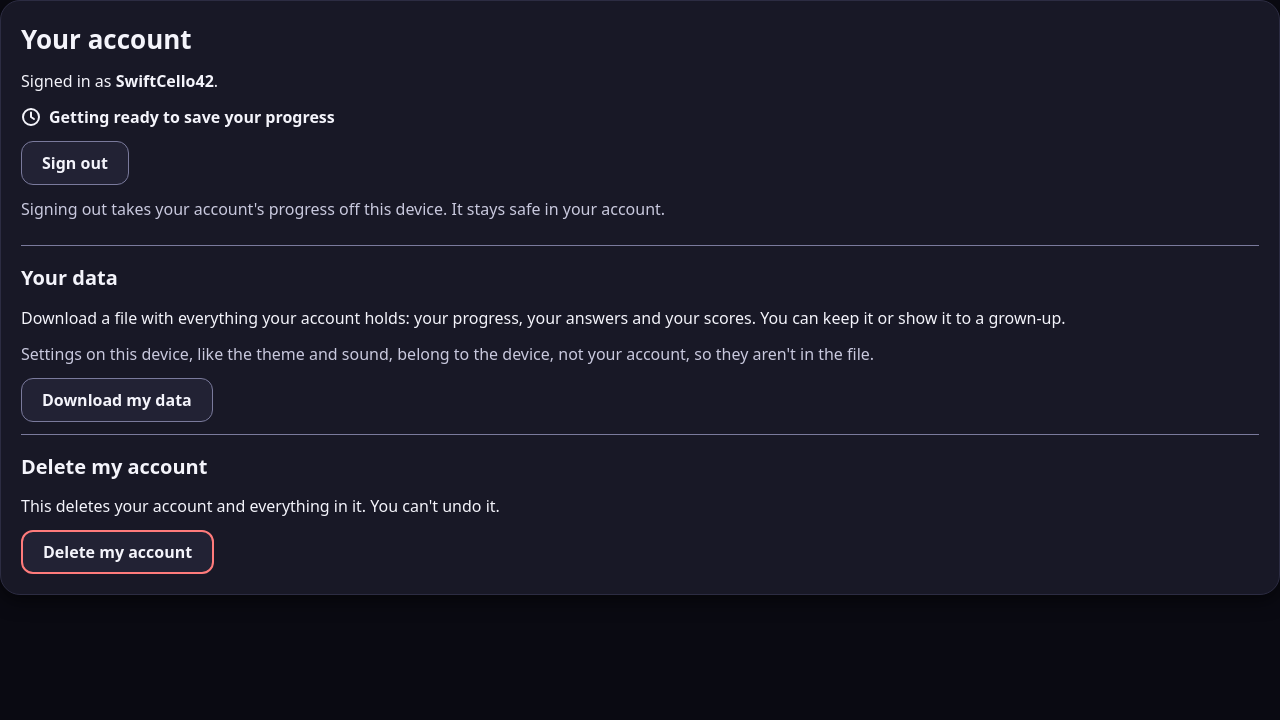
Download my data › says plainly when the site cannot be reached
Check: the text "SwiftCello42" is shown, box [116,70,214,92]
Click the button "Download my data" at x=117, y=400, box [21,378,213,422]
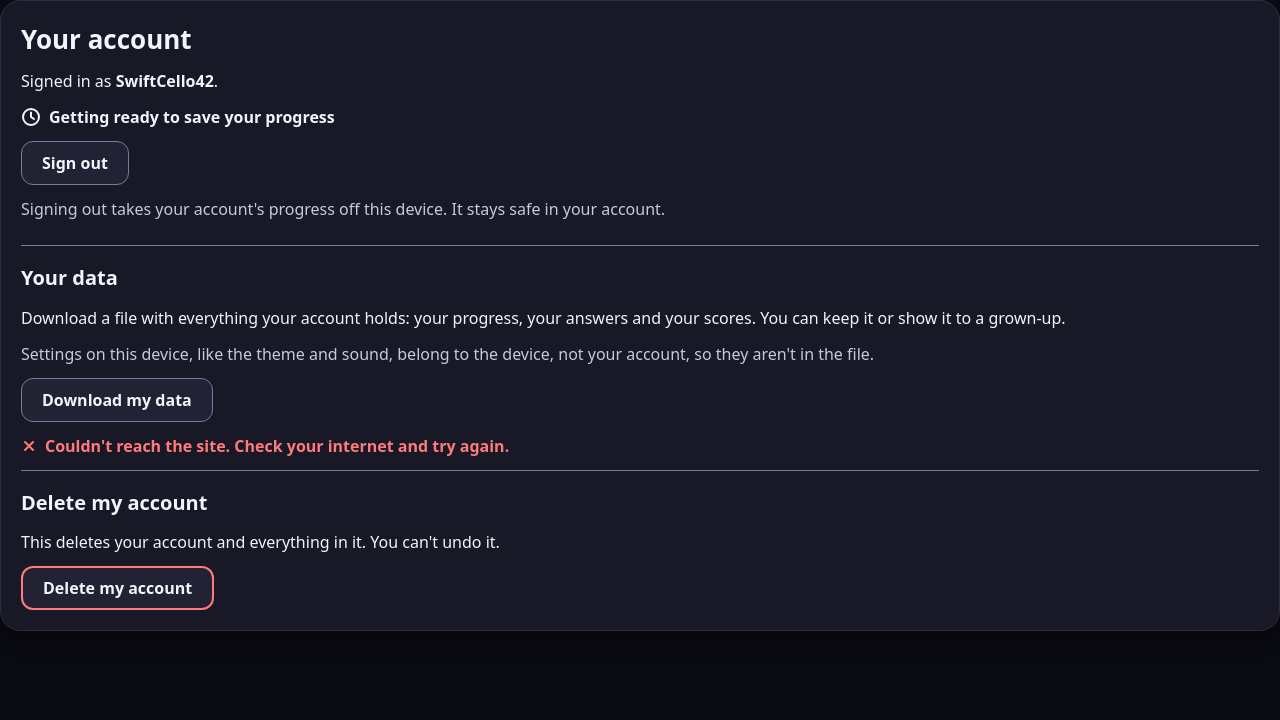
Check: the text "Couldn't reach the site. Check your internet and try again." is shown, box [45,434,509,458]
